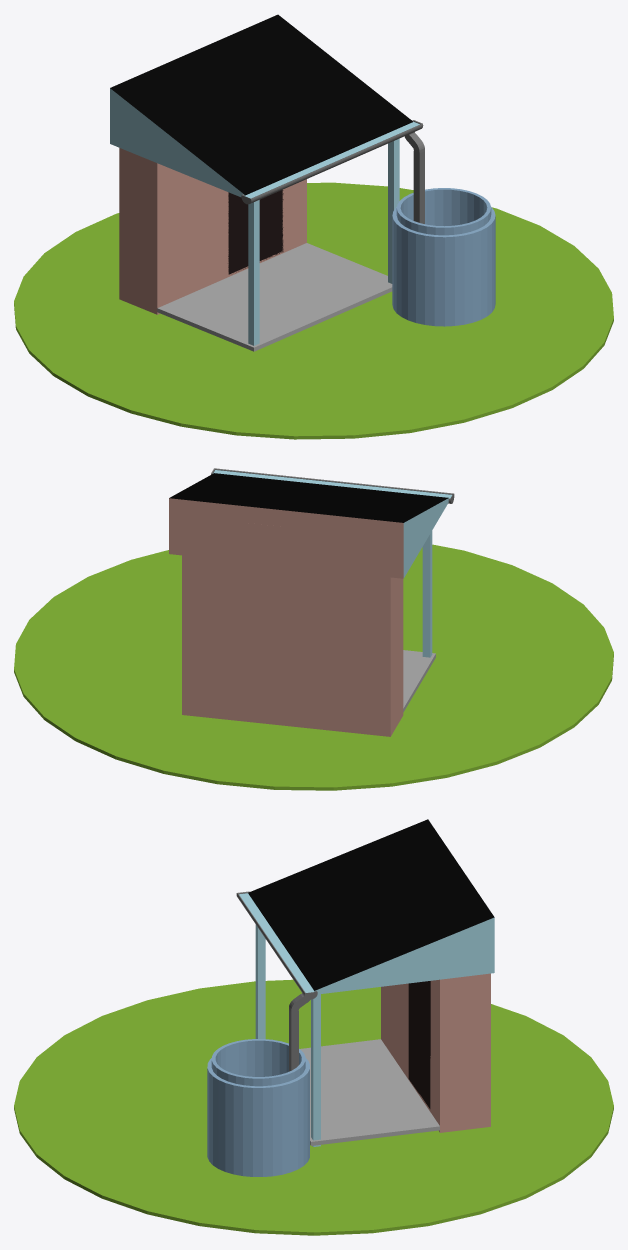
Rendered from BSN_Water_Main.gltf.
3 renders of one model, top to bottom at view 1: azimuth 30°, elevation 25°; view 2: azimuth 150°, elevation 25°; view 3: azimuth 270°, elevation 25°, orthographic.
Visible parts, largest first — view 1: Grass, Roof, HouseWall, Barrel, Concrete, Pillar2, Pillar1, GutterPipe, WaterGutter, Gutter; view 2: Grass, HouseWall, Roof, Pillar2, Concrete, WaterGutter, Gutter; view 3: Grass, Roof, HouseWall, Barrel, Concrete, Pillar1, Pillar2, WaterGutter, GutterPipe.
Part boxes in pixels (x1,y1,x2,y2): Grass: (14,182,613,439); Roof: (110,14,412,197); HouseWall: (119,148,306,314); Barrel: (392,188,495,326); Concrete: (157,243,392,351); Pillar2: (248,200,259,345); Pillar1: (388,138,399,283); GutterPipe: (404,132,424,223); WaterGutter: (244,121,419,198); Gutter: (241,120,423,204); Grass: (14,544,613,790); HouseWall: (182,516,403,736); Roof: (169,473,448,578); Pillar2: (422,531,432,657); Concrete: (403,650,435,712); WaterGutter: (213,470,452,498); Gutter: (211,468,454,503); Grass: (14,979,613,1235); Roof: (248,819,494,994); HouseWall: (381,973,490,1132); Barrel: (207,1039,309,1176); Concrete: (300,1039,439,1145); Pillar1: (311,994,320,1146); Pillar2: (255,924,265,1038); WaterGutter: (239,893,314,992); GutterPipe: (289,993,310,1071).
Size of the model in its own units: 28.11 by 11.38 by 28.11.
